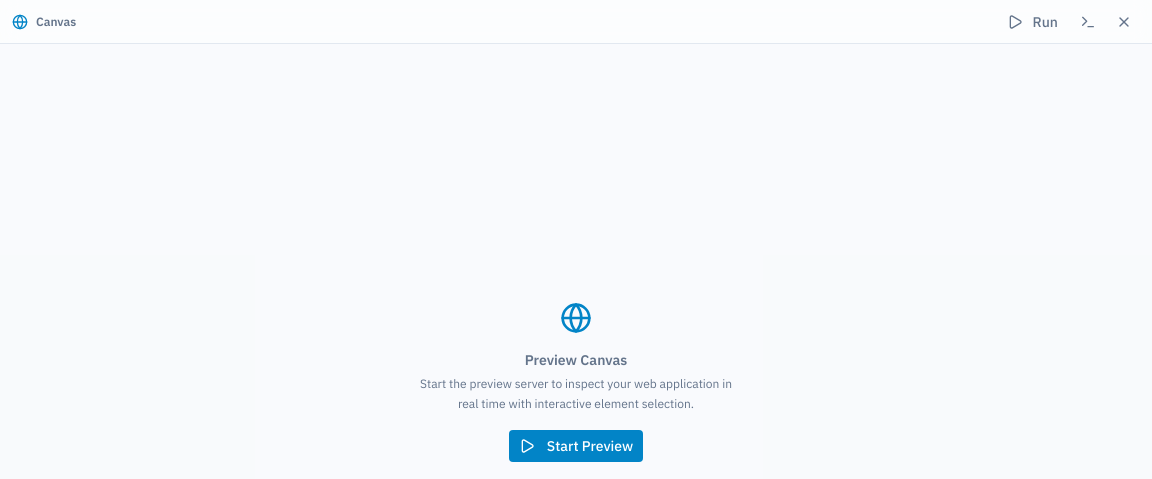
WebPreview lifecycle › explains unsupported projects without booting a container
This screenshot has width=1152, height=479.
Step 1. Click the button "Start Preview" → (576, 446), box [509,430,643,462]
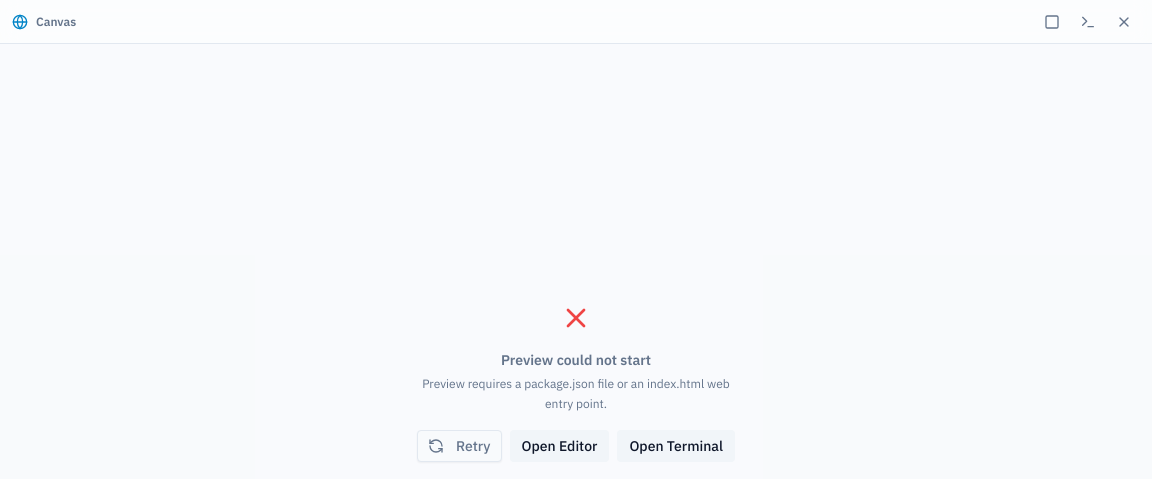
Expected: the text "package.json" is shown, [422,376,730,411]
